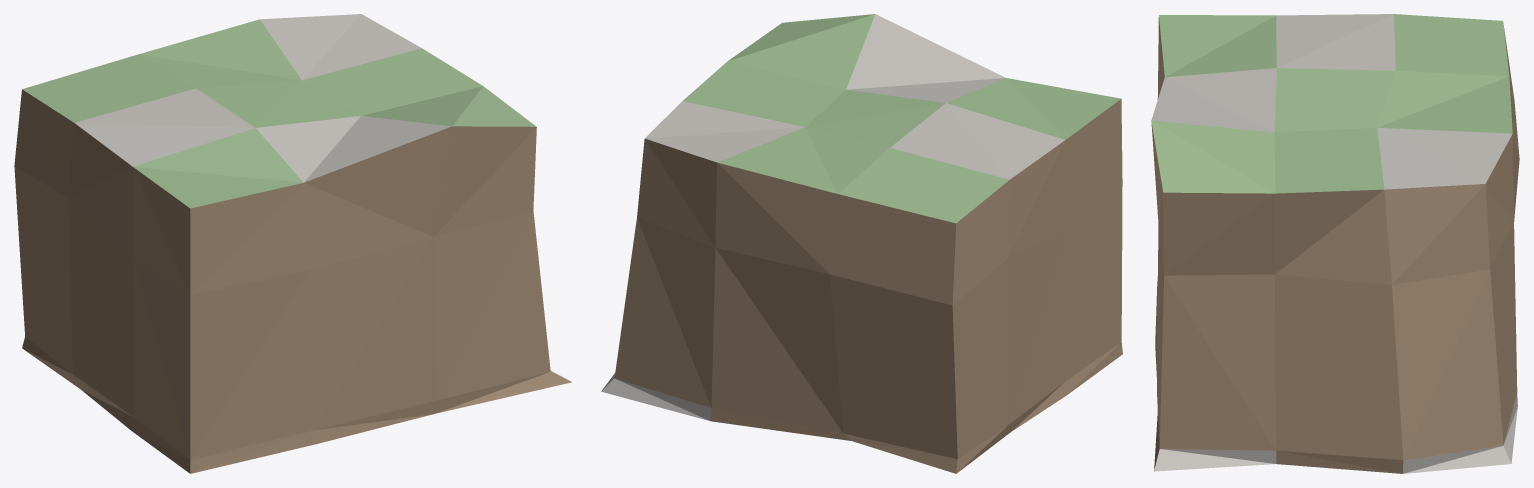
The model's file is ROCK-03.glb.
3 views of the same model, side by side, from view 1: azimuth 30°, elevation 25°; view 2: azimuth 150°, elevation 25°; view 3: azimuth 270°, elevation 25° (orthographic). The views are drawn at different scales.
Parts seen in each view (by area): view 1: ROCK-03; view 2: ROCK-03; view 3: ROCK-03.
Part boxes in pixels (left/top/right/bottom): ROCK-03: left=14, top=14, right=571, bottom=473; ROCK-03: left=601, top=14, right=1122, bottom=473; ROCK-03: left=1151, top=14, right=1519, bottom=473.
Bounding box in the file's own units: 1.55 × 1.1 × 1.26.
